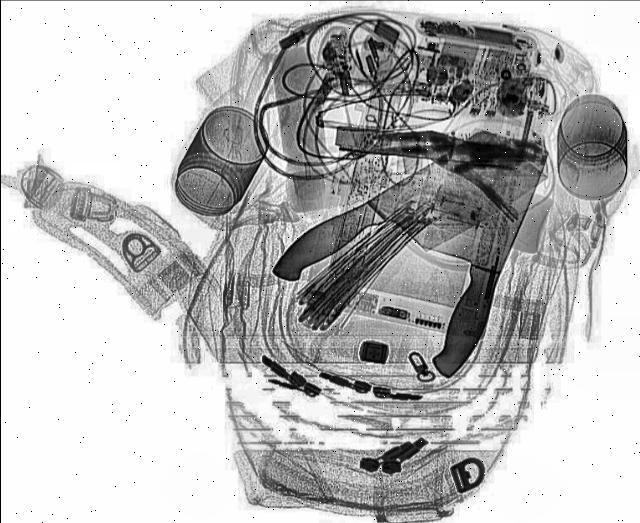Gun: (257, 119, 553, 318), (376, 124, 554, 380)
